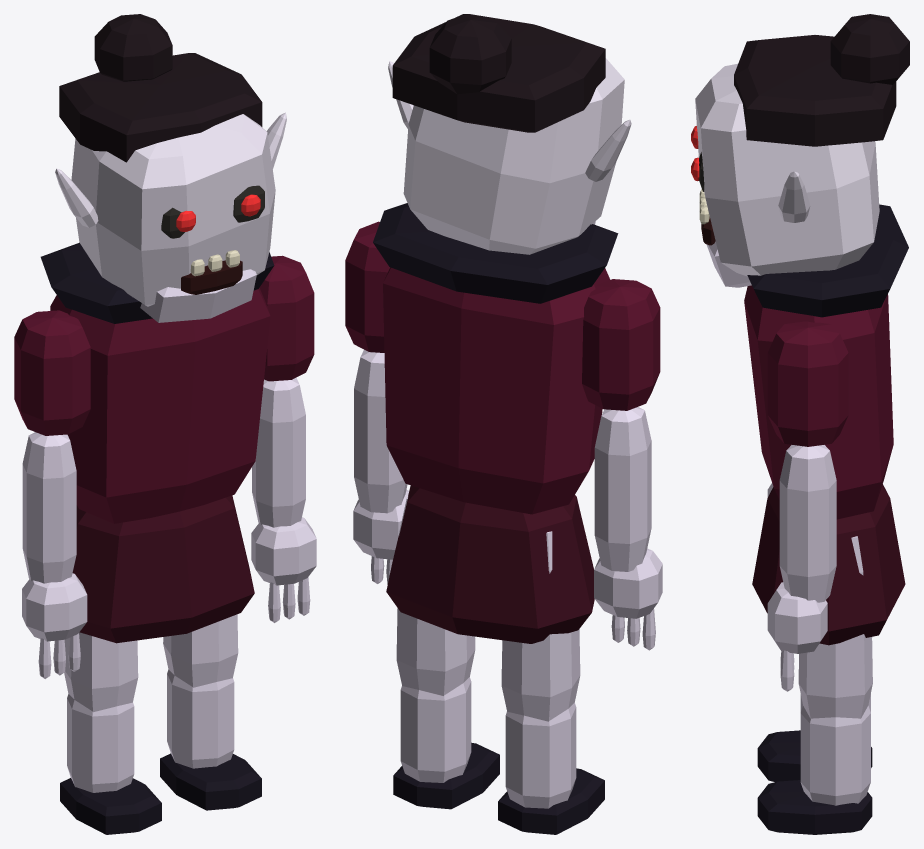
Rendered from mon-vampire-2.glb.
3 views of the same model, side by side, from view 1: azimuth 30°, elevation 25°; view 2: azimuth 150°, elevation 25°; view 3: azimuth 270°, elevation 25° (orthographic). The views are drawn at different scales.
Parts seen in each view (by area): view 1: torso, head, arm-right, arm-left, leg-right, leg-left; view 2: torso, head, arm-right, leg-right, leg-left, arm-left; view 3: head, torso, arm-left, leg-left, leg-right.
Part boxes in pixels (<box>): torso: <box>40,242,274,643</box>; head: <box>55,14,286,322</box>; arm-right: <box>14,310,90,678</box>; arm-left: <box>251,255,316,622</box>; leg-right: <box>60,632,161,834</box>; leg-left: <box>160,614,261,810</box>; torso: <box>373,203,618,643</box>; head: <box>388,14,631,254</box>; arm-right: <box>582,279,662,650</box>; leg-right: <box>498,531,604,834</box>; leg-left: <box>393,496,499,809</box>; arm-left: <box>345,221,409,584</box>; head: <box>691,14,909,287</box>; torso: <box>744,204,908,645</box>; arm-left: <box>767,321,848,691</box>; leg-left: <box>757,536,872,834</box>; leg-right: <box>757,637,872,781</box>.
Bounding box in the file's own units: 0.9745 × 2.49 × 0.6337.
